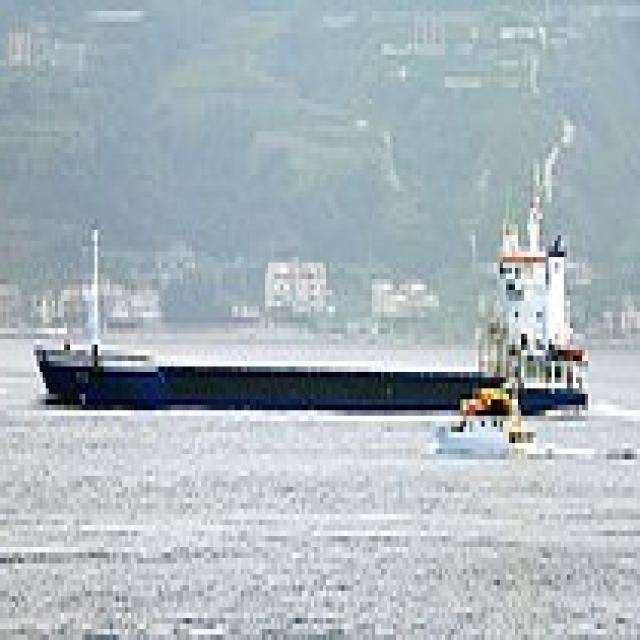Cargo: (31, 175, 594, 416)
